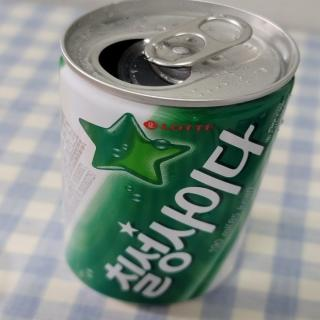chilsung: (57, 1, 303, 306)
